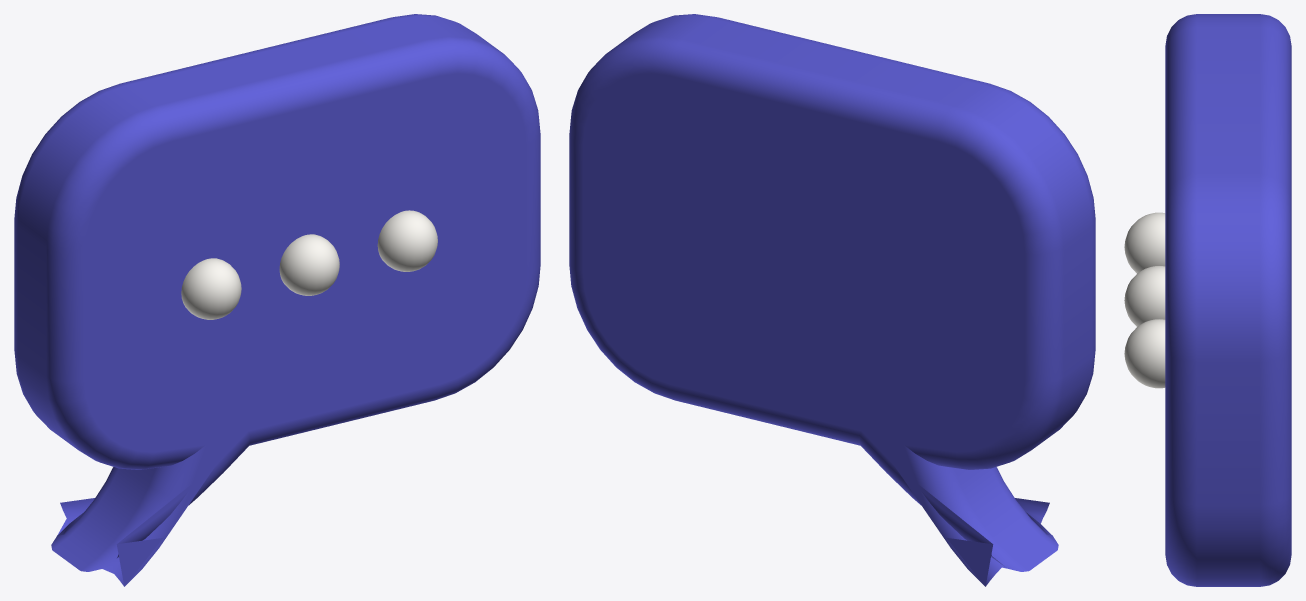
File: chat.glb
3 renders of one model, left to right at view 1: azimuth 30°, elevation 25°; view 2: azimuth 150°, elevation 25°; view 3: azimuth 270°, elevation 25°, orthographic. The views are drawn at different scales.
Visible parts, largest first — view 1: chat; view 2: chat; view 3: chat.
Boxes of the visible parts, x1,y1,x2,y2 form: chat: (14, 14, 540, 586); chat: (569, 14, 1095, 586); chat: (1124, 14, 1291, 586).
Bounding box in the file's own units: 2 × 1.79 × 0.53.
